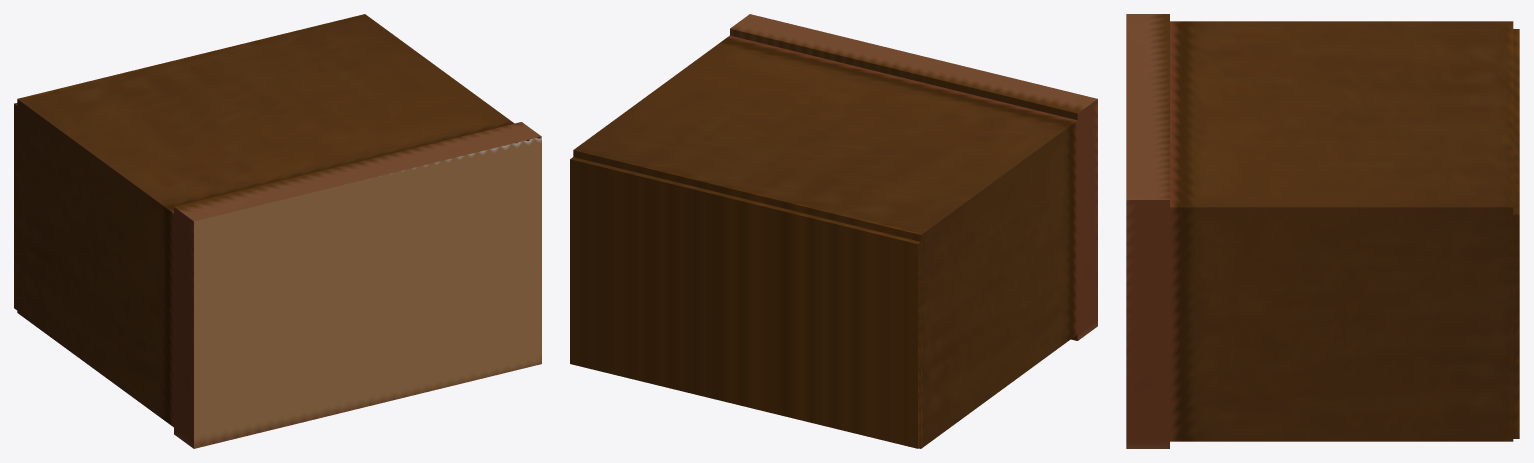
The model's file is pz_counter_oak_floor.obj.
3 renders of one model, left to right at view 1: azimuth 30°, elevation 25°; view 2: azimuth 150°, elevation 25°; view 3: azimuth 270°, elevation 25°, orthographic. The views are drawn at different scales.
Bounding box in the file's own units: 1 × 0.6266 × 0.895.
Materials: 1 (1 with a texture image).
